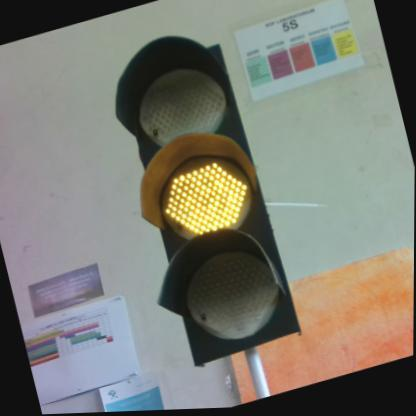yellow: (100, 18, 306, 370)
